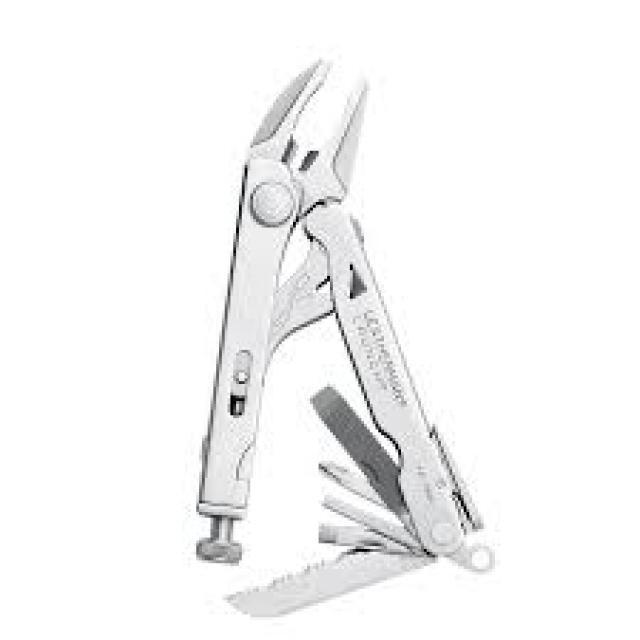pliers: (207, 49, 379, 436)
